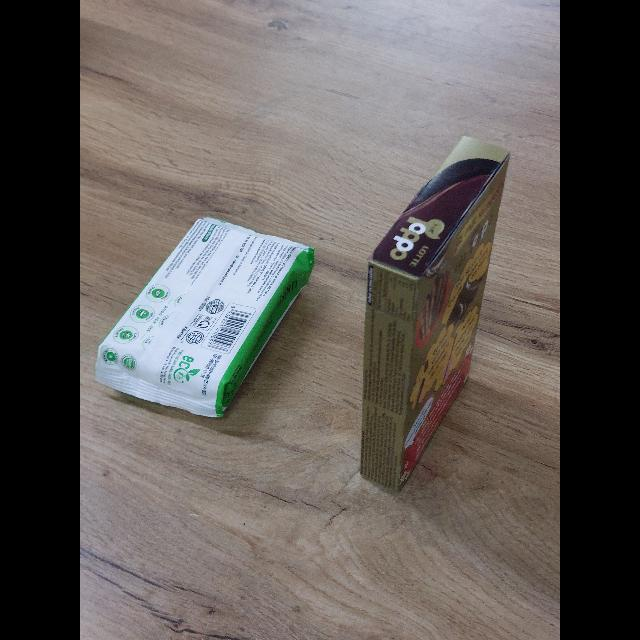banh_toppo_socola: (361, 136, 510, 492), (222, 273, 227, 281)
khan_giay: (96, 218, 314, 417)
